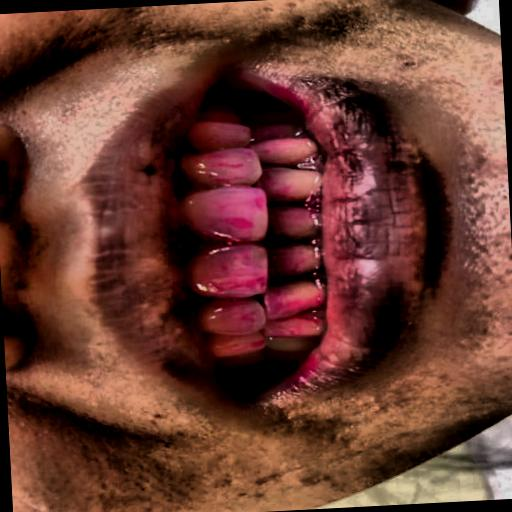Plaque: (158, 88, 329, 385)
